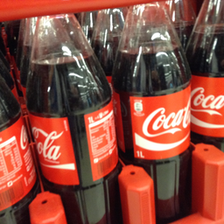soda: (26, 15, 120, 224), (112, 3, 192, 224)
